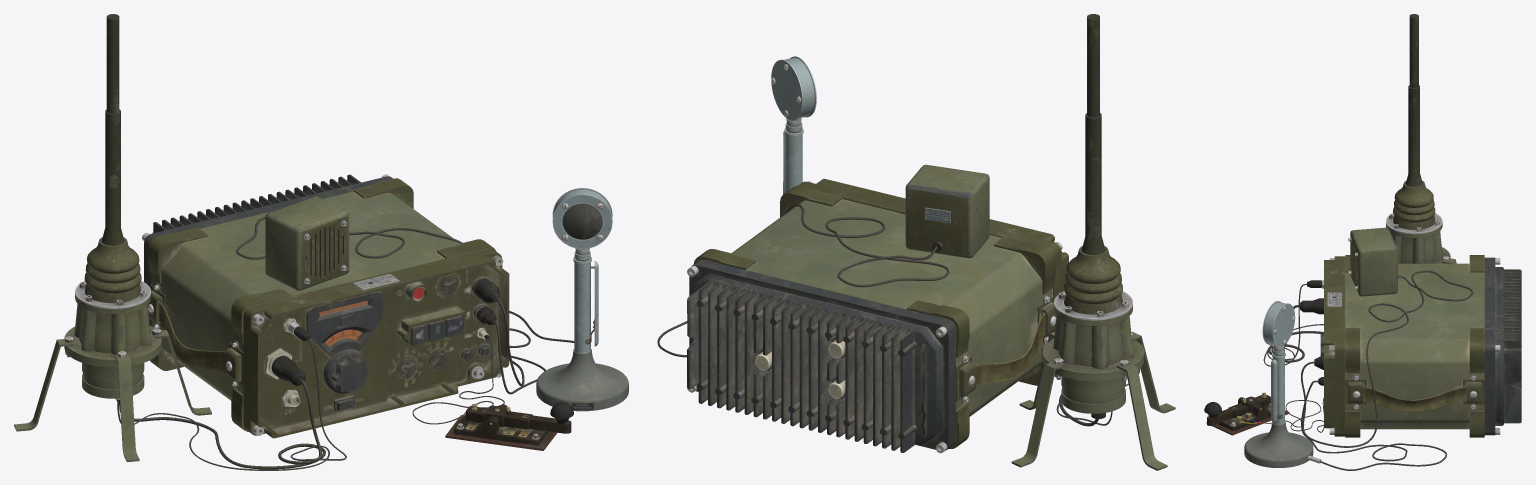
Rendered from vintage_radio_transceiver.glb.
3 renders of one model, left to right at view 1: azimuth 30°, elevation 25°; view 2: azimuth 150°, elevation 25°; view 3: azimuth 270°, elevation 25°, orthographic. The views are drawn at different scales.
Visible parts, largest first — view 1: vintage_radio_transceiver, vintage_radio_transceiver_antenna, vintage_radio_transceiver_microphone, vintage_radio_transceiver_speaker, vintage_radio_transceiver_cables, vintage_radio_transceiver_morse_key_base, vintage_radio_transceiver_morse_key_arm, vintage_radio_transceiver_dial, vintage_radio_transceiver_antenna_plug_a; view 2: vintage_radio_transceiver, vintage_radio_transceiver_antenna, vintage_radio_transceiver_speaker, vintage_radio_transceiver_microphone, vintage_radio_transceiver_cables; view 3: vintage_radio_transceiver, vintage_radio_transceiver_antenna, vintage_radio_transceiver_microphone, vintage_radio_transceiver_cables, vintage_radio_transceiver_speaker, vintage_radio_transceiver_morse_key_arm, vintage_radio_transceiver_morse_key_base.
Boxes of the visible parts, x1,y1,x2,y2 form: vintage_radio_transceiver: (142, 174, 509, 438); vintage_radio_transceiver_antenna: (14, 14, 211, 461); vintage_radio_transceiver_microphone: (536, 188, 628, 411); vintage_radio_transceiver_speaker: (265, 196, 349, 290); vintage_radio_transceiver_cables: (117, 217, 574, 470); vintage_radio_transceiver_morse_key_base: (445, 404, 557, 450); vintage_radio_transceiver_morse_key_arm: (466, 402, 573, 433); vintage_radio_transceiver_dial: (323, 329, 369, 393); vintage_radio_transceiver_antenna_plug_a: (271, 355, 305, 385); vintage_radio_transceiver: (687, 178, 1068, 453); vintage_radio_transceiver_antenna: (1011, 14, 1175, 470); vintage_radio_transceiver_speaker: (905, 164, 989, 258); vintage_radio_transceiver_microphone: (771, 56, 816, 194); vintage_radio_transceiver_cables: (657, 204, 1139, 426); vintage_radio_transceiver: (1324, 255, 1521, 437); vintage_radio_transceiver_antenna: (1386, 14, 1456, 263); vintage_radio_transceiver_microphone: (1244, 301, 1321, 467); vintage_radio_transceiver_cables: (1261, 270, 1473, 470); vintage_radio_transceiver_speaker: (1348, 227, 1397, 296); vintage_radio_transceiver_morse_key_arm: (1204, 392, 1270, 425); vintage_radio_transceiver_morse_key_base: (1206, 397, 1289, 435).
Bounding box in the file's own units: 0.574 × 0.4344 × 0.4131.
2 materials, 2 textured.
